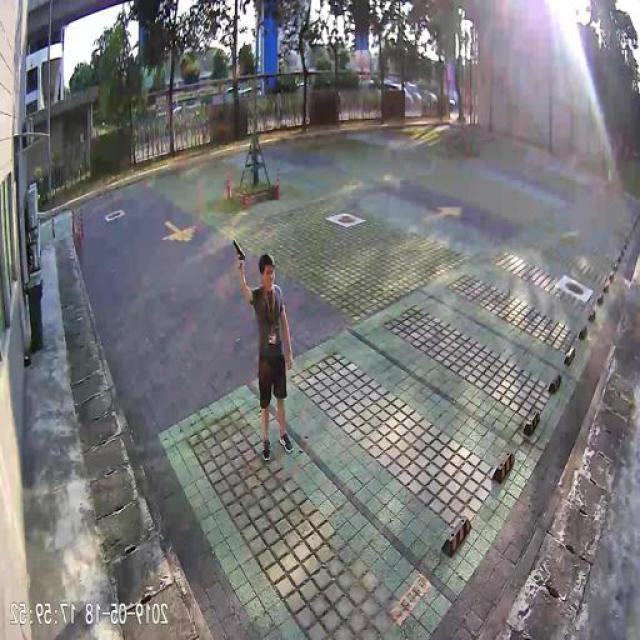Gun: (235, 236, 248, 268)
